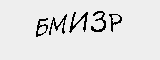Б: (34, 14, 51, 38)
З: (92, 5, 108, 36)
И: (69, 10, 90, 37)
М: (47, 13, 68, 39)
Р: (107, 9, 121, 36)
